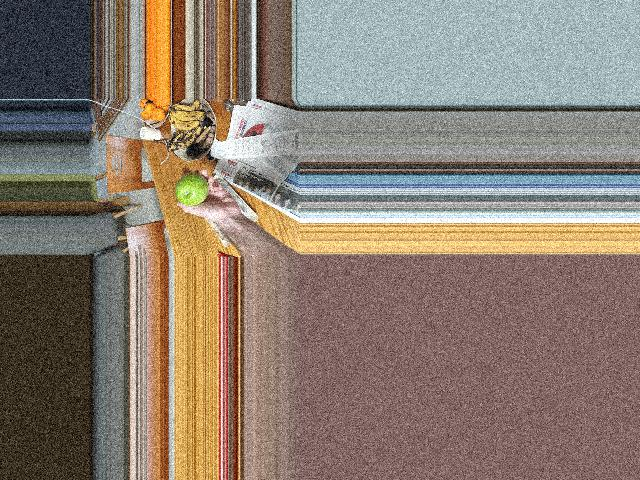apple: (175, 172, 208, 205)
